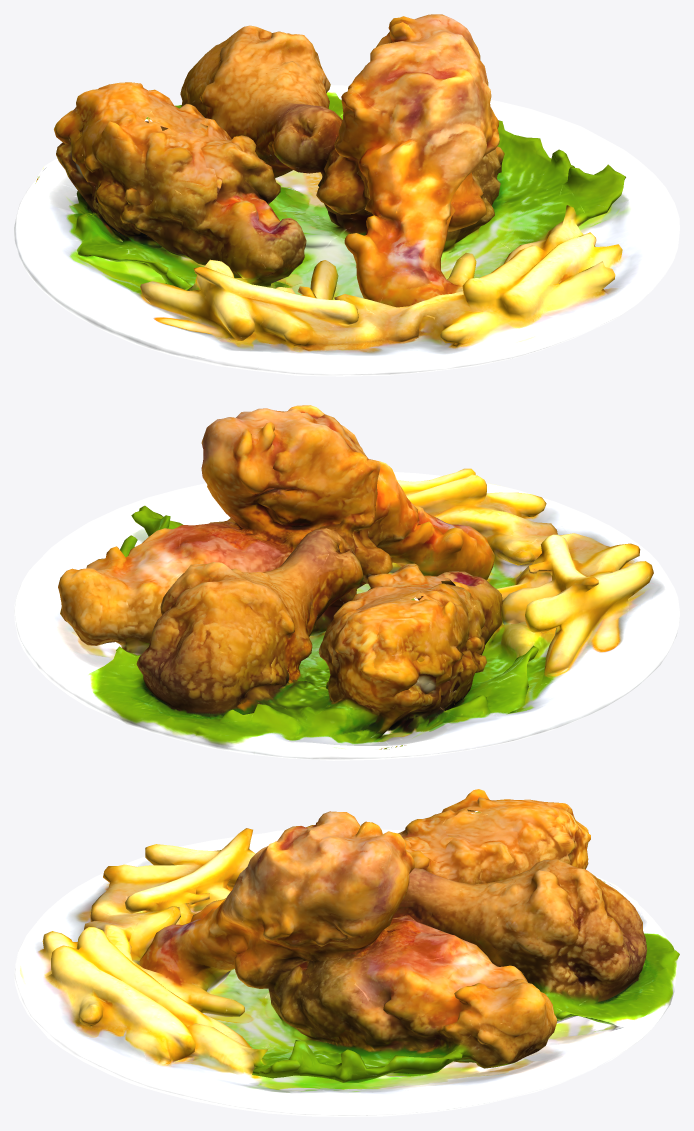
File: broast.glb
3 views of the same model, one above another, from view 1: azimuth 30°, elevation 25°; view 2: azimuth 150°, elevation 25°; view 3: azimuth 270°, elevation 25° (orthographic).
Bounding box in the file's own units: 1.89 × 0.7006 × 1.91.
Materials: 1 (1 with a texture image).
